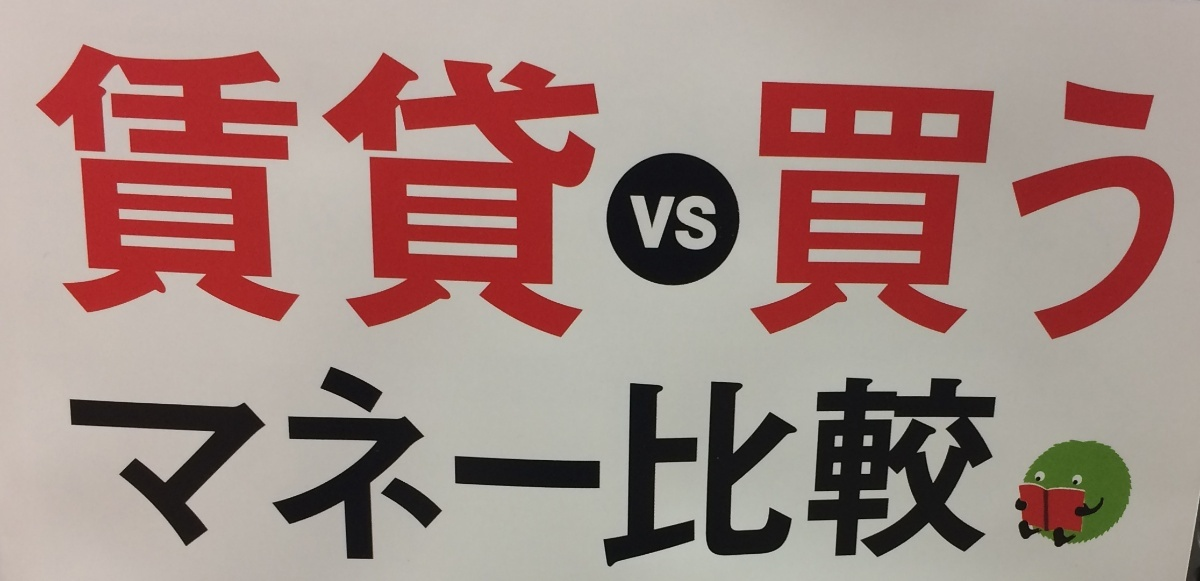text: (33, 41, 48, 342), (49, 41, 64, 342), (65, 41, 80, 342), (81, 41, 96, 342), (97, 41, 112, 342), (113, 41, 128, 342), (129, 41, 144, 342), (145, 41, 160, 342), (161, 41, 176, 342), (177, 41, 192, 342), (193, 41, 208, 342), (209, 41, 224, 342), (225, 41, 240, 342), (241, 41, 256, 342), (257, 41, 272, 342), (273, 41, 288, 342), (289, 41, 304, 342), (305, 41, 320, 342), (321, 41, 336, 342), (337, 41, 352, 342), (353, 41, 368, 342), (369, 41, 384, 342), (385, 41, 400, 342), (401, 41, 416, 342), (417, 41, 432, 342), (433, 41, 448, 342), (449, 41, 464, 342), (465, 41, 480, 342), (481, 41, 496, 342), (497, 41, 512, 342), (513, 41, 528, 342), (529, 41, 544, 342), (545, 41, 560, 342), (561, 41, 576, 342), (577, 41, 592, 342), (593, 41, 607, 342), (769, 77, 784, 345), (785, 77, 800, 345), (801, 77, 816, 345), (817, 77, 832, 345), (833, 77, 848, 345), (849, 77, 864, 345), (865, 77, 880, 345), (881, 77, 896, 345), (897, 77, 912, 345), (913, 77, 928, 345), (929, 77, 944, 345), (945, 77, 960, 345), (961, 77, 976, 345), (977, 77, 992, 345), (993, 77, 1008, 345), (1009, 77, 1024, 345), (1025, 77, 1040, 345), (1041, 77, 1056, 345), (1057, 77, 1072, 345), (1073, 77, 1088, 345), (1089, 77, 1104, 345), (1105, 77, 1120, 345), (1121, 77, 1136, 345), (1137, 77, 1152, 345), (1153, 77, 1168, 345), (1169, 77, 1184, 345), (754, 77, 768, 345), (81, 362, 96, 577), (97, 362, 112, 577), (113, 362, 128, 577), (129, 362, 144, 577), (145, 362, 160, 577), (161, 362, 176, 577), (177, 362, 192, 577), (193, 362, 208, 577), (209, 362, 224, 577), (225, 362, 240, 577), (241, 362, 256, 577), (257, 362, 272, 577), (273, 362, 288, 577), (289, 362, 304, 577), (305, 362, 320, 577), (321, 362, 336, 577), (337, 362, 352, 577), (353, 362, 368, 577), (369, 362, 384, 577), (385, 362, 400, 577), (401, 362, 416, 577), (417, 362, 432, 577), (433, 362, 448, 577), (449, 362, 464, 577), (465, 362, 480, 577), (481, 362, 496, 577), (497, 362, 512, 577), (513, 362, 528, 577), (529, 362, 544, 577), (545, 362, 560, 577), (561, 362, 576, 577), (577, 362, 592, 577), (593, 362, 608, 577), (609, 362, 624, 577), (625, 362, 640, 577), (641, 362, 656, 577), (657, 362, 672, 577), (673, 362, 688, 577), (689, 362, 704, 577), (705, 362, 720, 577), (721, 362, 736, 577), (737, 362, 752, 577), (753, 362, 768, 577), (769, 362, 784, 577), (785, 362, 800, 577), (801, 362, 816, 577), (817, 362, 832, 577), (833, 362, 848, 577), (849, 362, 864, 577), (865, 362, 880, 577), (881, 362, 896, 577), (897, 362, 912, 577), (913, 362, 928, 577), (929, 362, 944, 577), (945, 362, 960, 577), (961, 362, 976, 577), (977, 362, 992, 577), (70, 362, 80, 577), (993, 362, 1002, 577), (641, 190, 656, 258), (657, 190, 672, 258), (673, 190, 688, 258), (689, 190, 704, 258), (705, 190, 720, 258), (628, 190, 640, 258), (1185, 77, 1187, 345), (721, 190, 724, 258)
